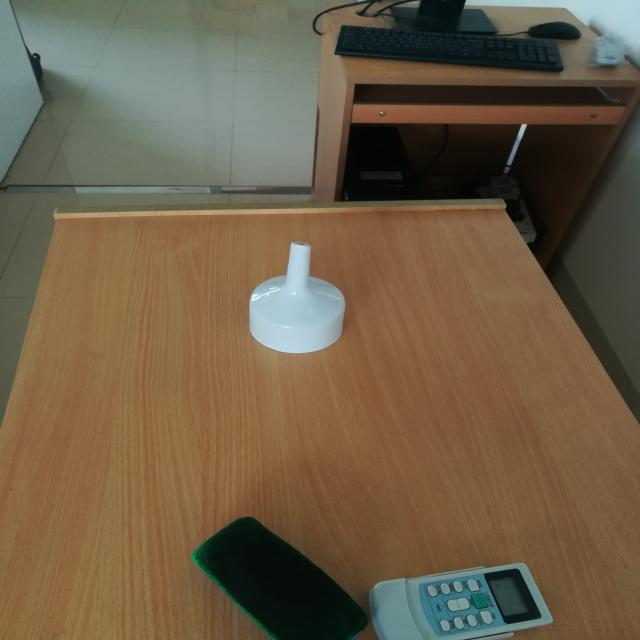Buchner_Funnel: (230, 212, 368, 366)
